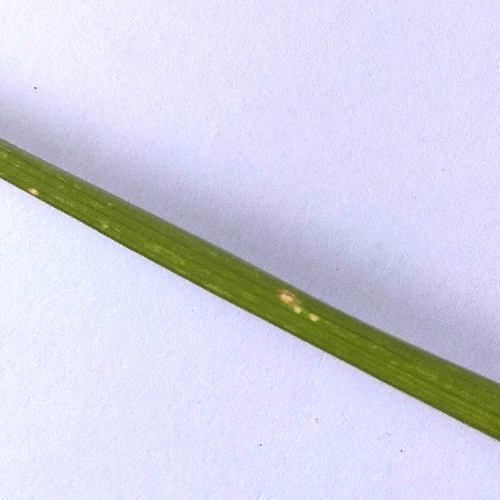Busuk Leher: (278, 286, 322, 324), (22, 181, 46, 203)
